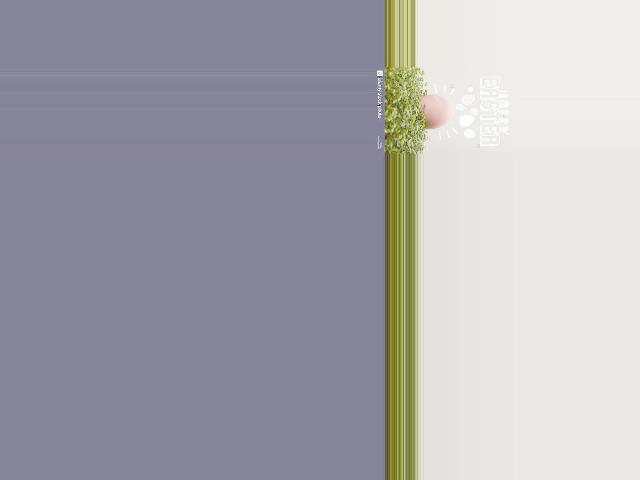egg: (419, 95, 453, 130)
